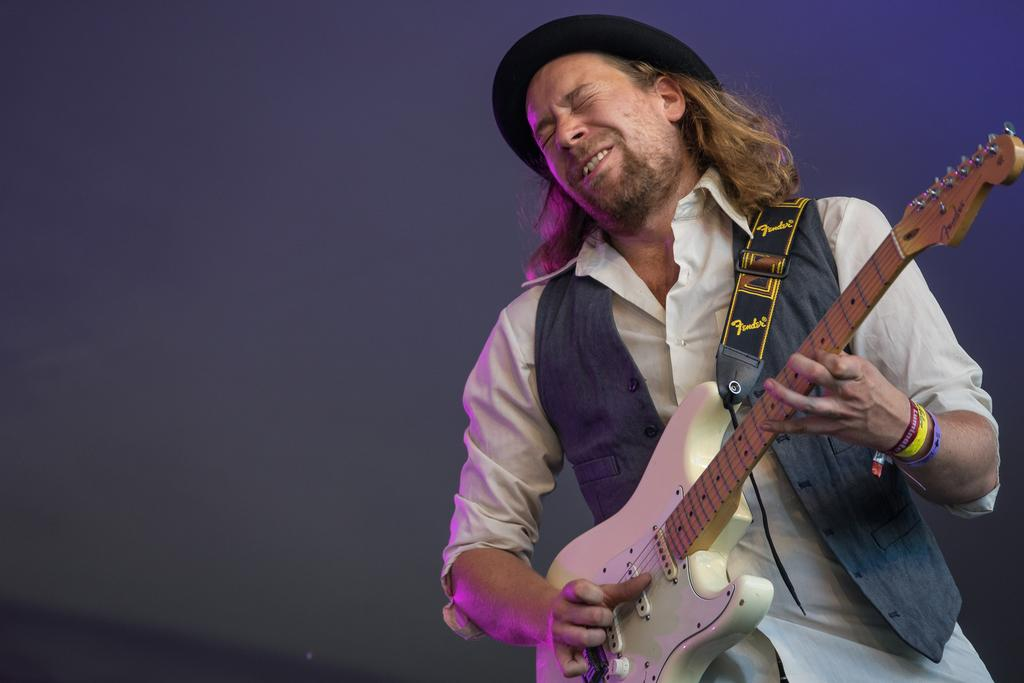Hat: (488, 11, 722, 186)
